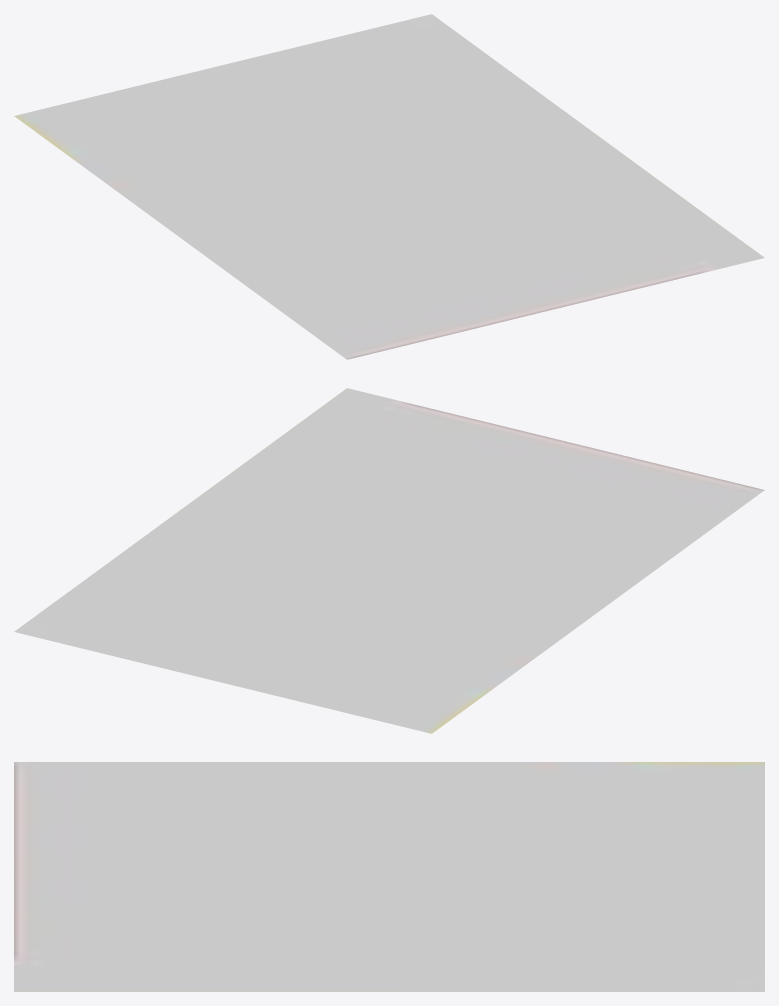
The model's file is paper-sheet.glb.
The picture shows the model from 3 angles, top to bottom: view 1: azimuth 30°, elevation 25°; view 2: azimuth 150°, elevation 25°; view 3: azimuth 270°, elevation 25°; orthographic projection. The views are drawn at different scales.
Parts seen in each view (by area): view 1: office_notepads_a4_a; view 2: office_notepads_a4_a; view 3: office_notepads_a4_a.
Boxes of the visible parts, x1,y1,x2,y2 form: office_notepads_a4_a: [14, 14, 764, 359]; office_notepads_a4_a: [14, 388, 764, 733]; office_notepads_a4_a: [14, 762, 764, 991].
Bounding box in the file's own units: 0.21 × 0 × 0.29.
1 material, 1 textured.
